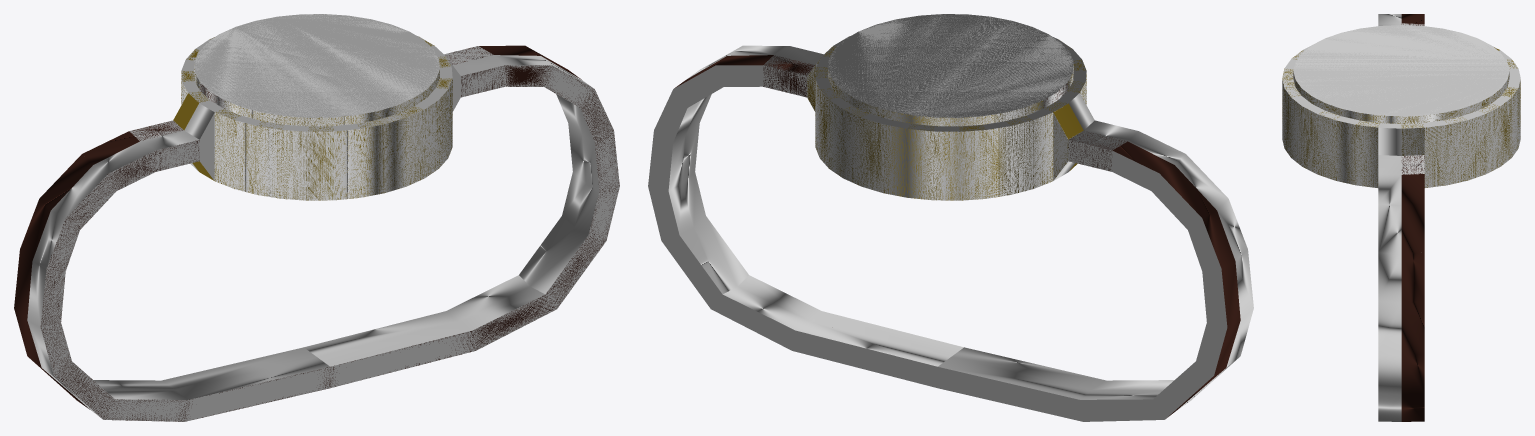
Rendered from watch.obj.
The picture shows the model from 3 angles, left to right: view 1: azimuth 30°, elevation 25°; view 2: azimuth 150°, elevation 25°; view 3: azimuth 270°, elevation 25°; orthographic projection. The views are drawn at different scales.
Parts seen in each view (by area): view 1: watch; view 2: watch; view 3: watch.
Part boxes in pixels (<box>): watch: <box>14,14,619,421</box>; watch: <box>648,14,1253,421</box>; watch: <box>1282,14,1520,421</box>.
Bounding box in the file's own units: 0.439 × 0.2263 × 0.1784.
